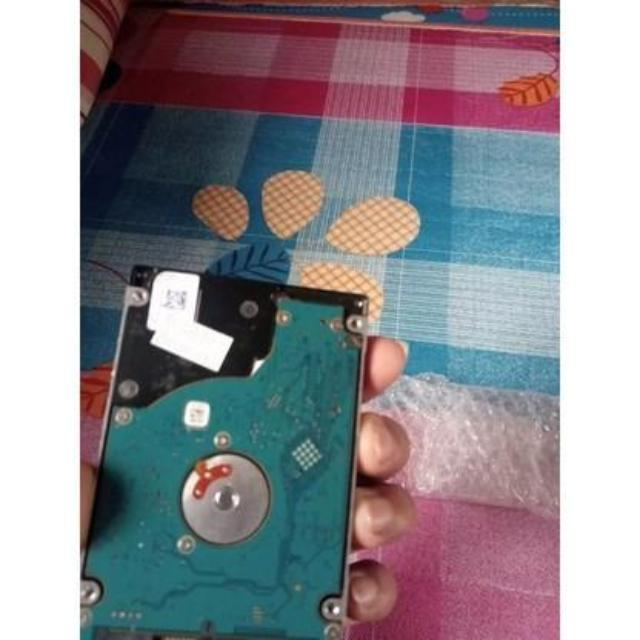DISK: (77, 258, 380, 640)
